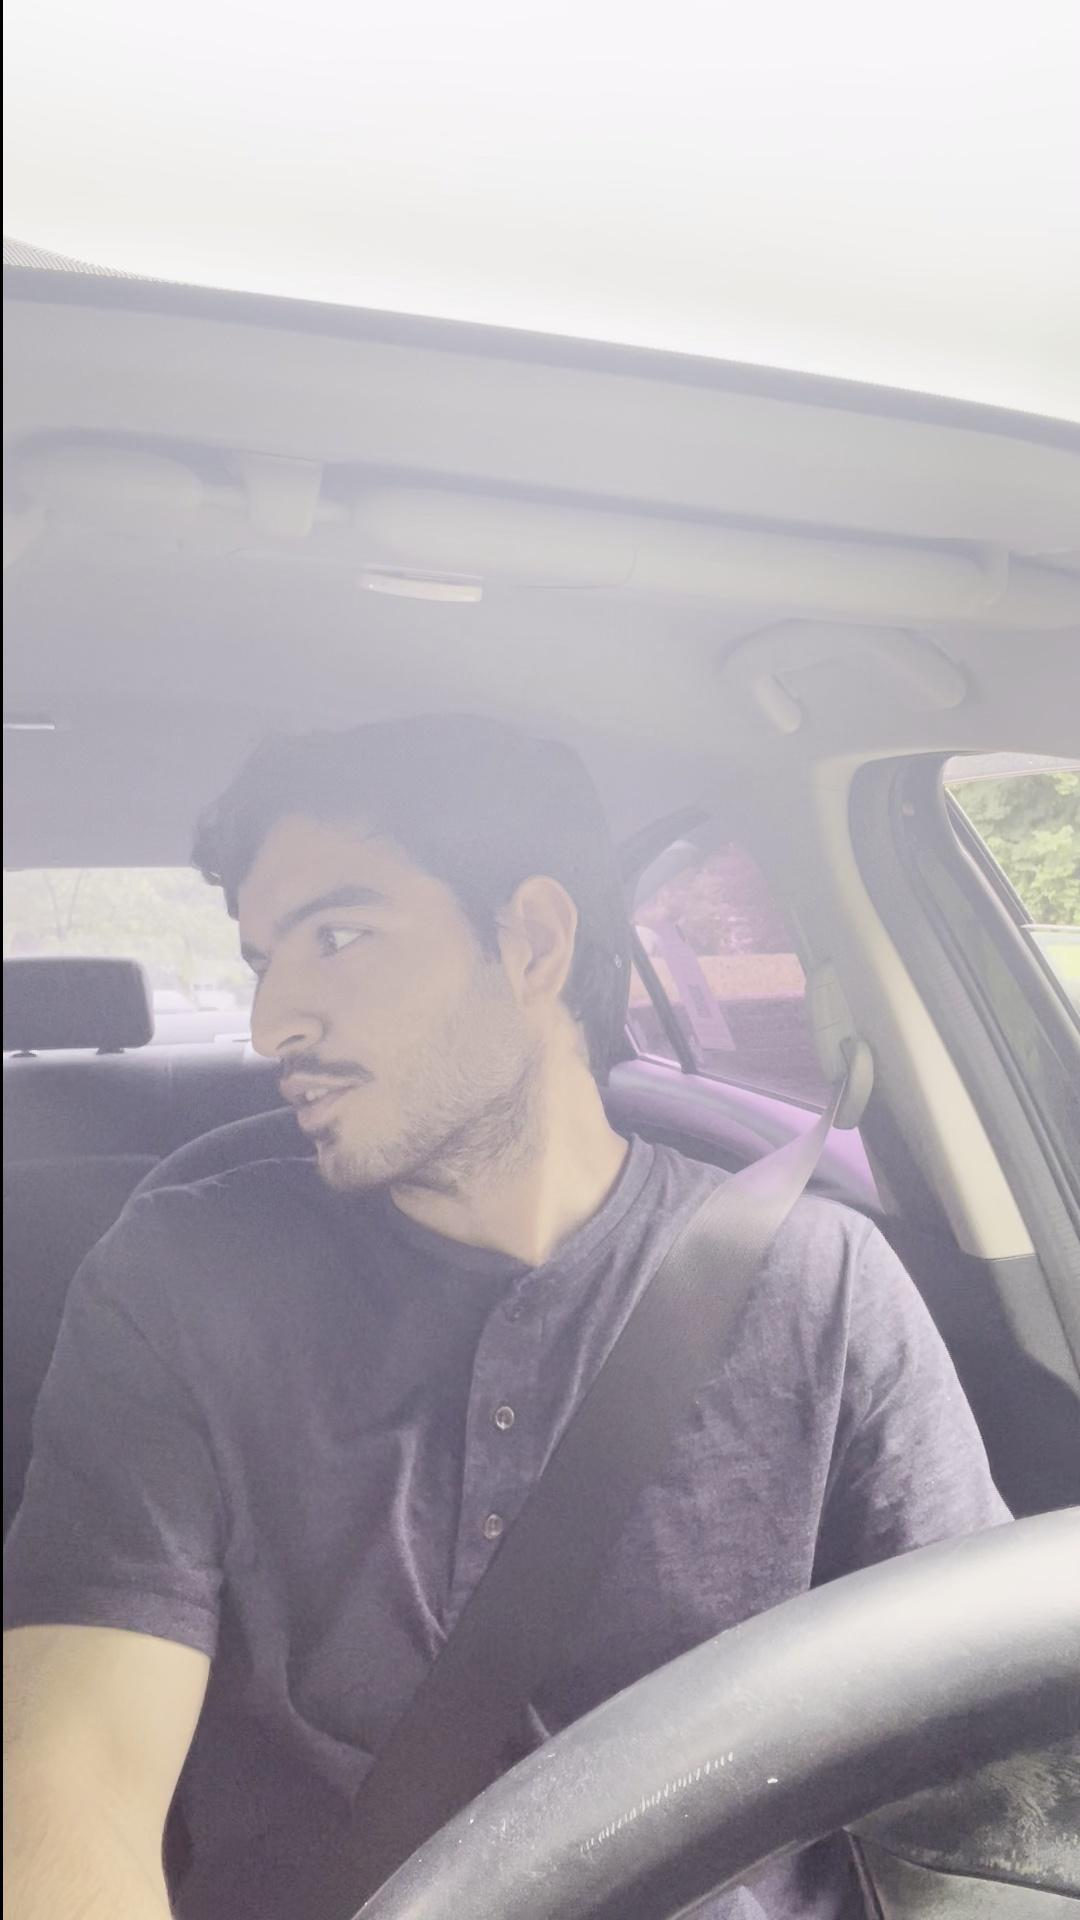inattentive: (166, 709, 687, 1233)
